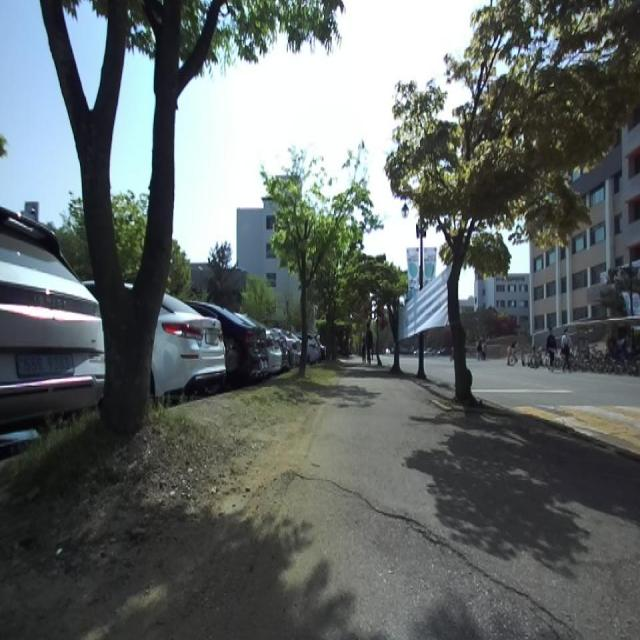sidewalk: (234, 360, 640, 640)
